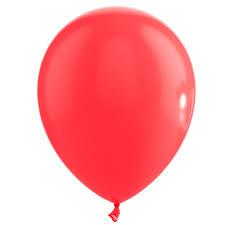red: (38, 5, 196, 208)
